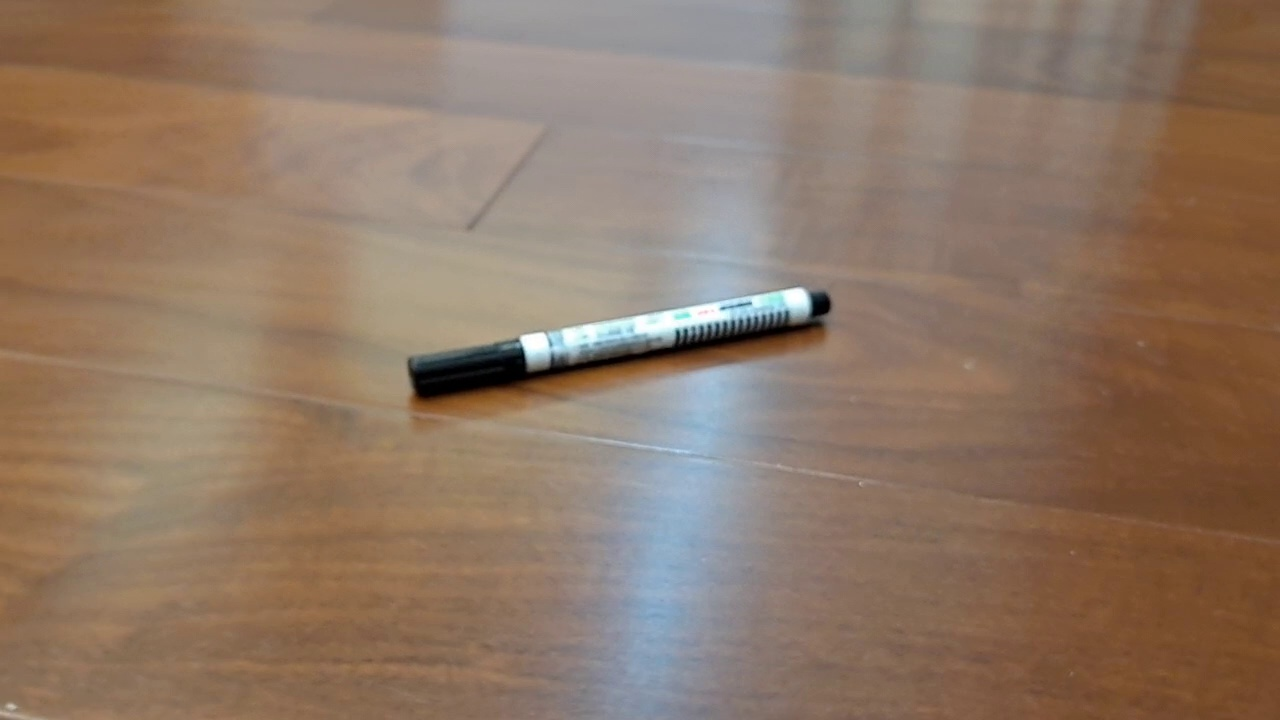pen: (408, 287, 830, 398)
